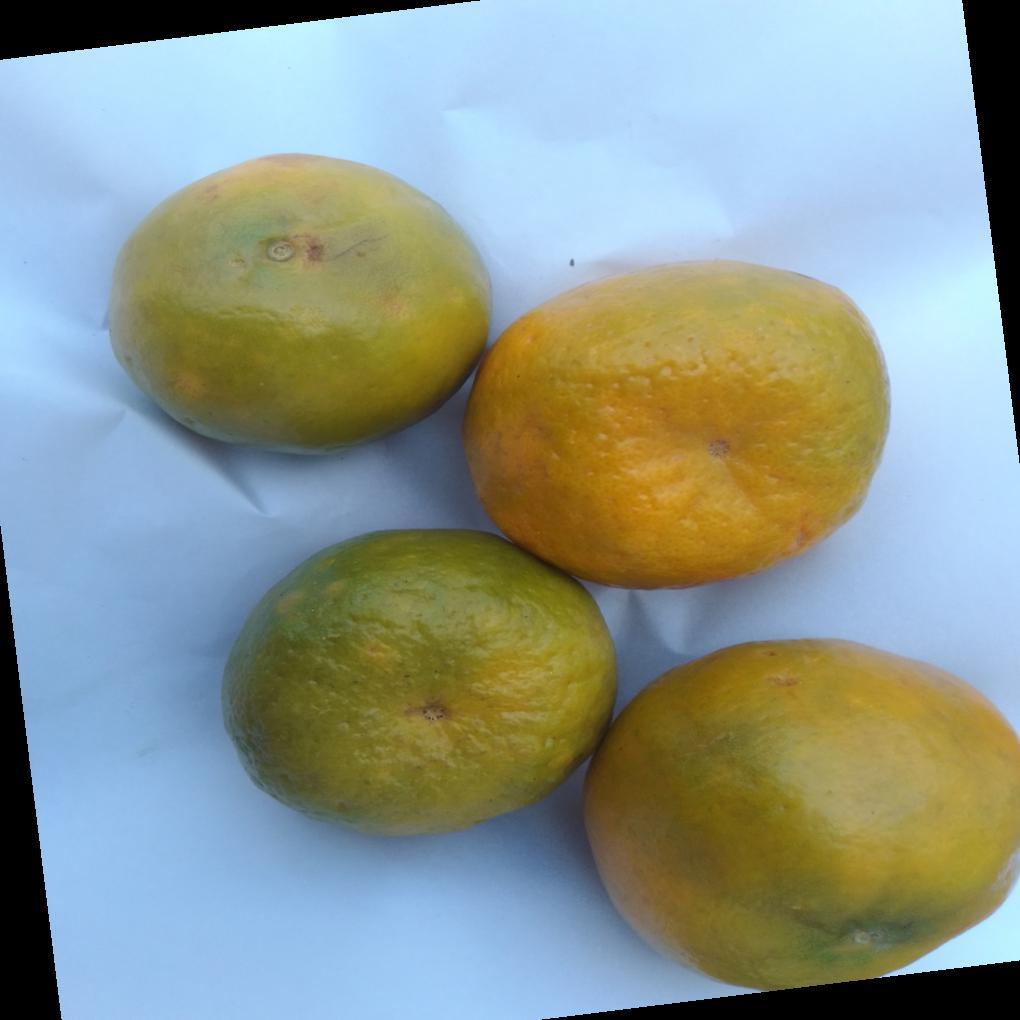FreshGuava: (106, 154, 1020, 992)
